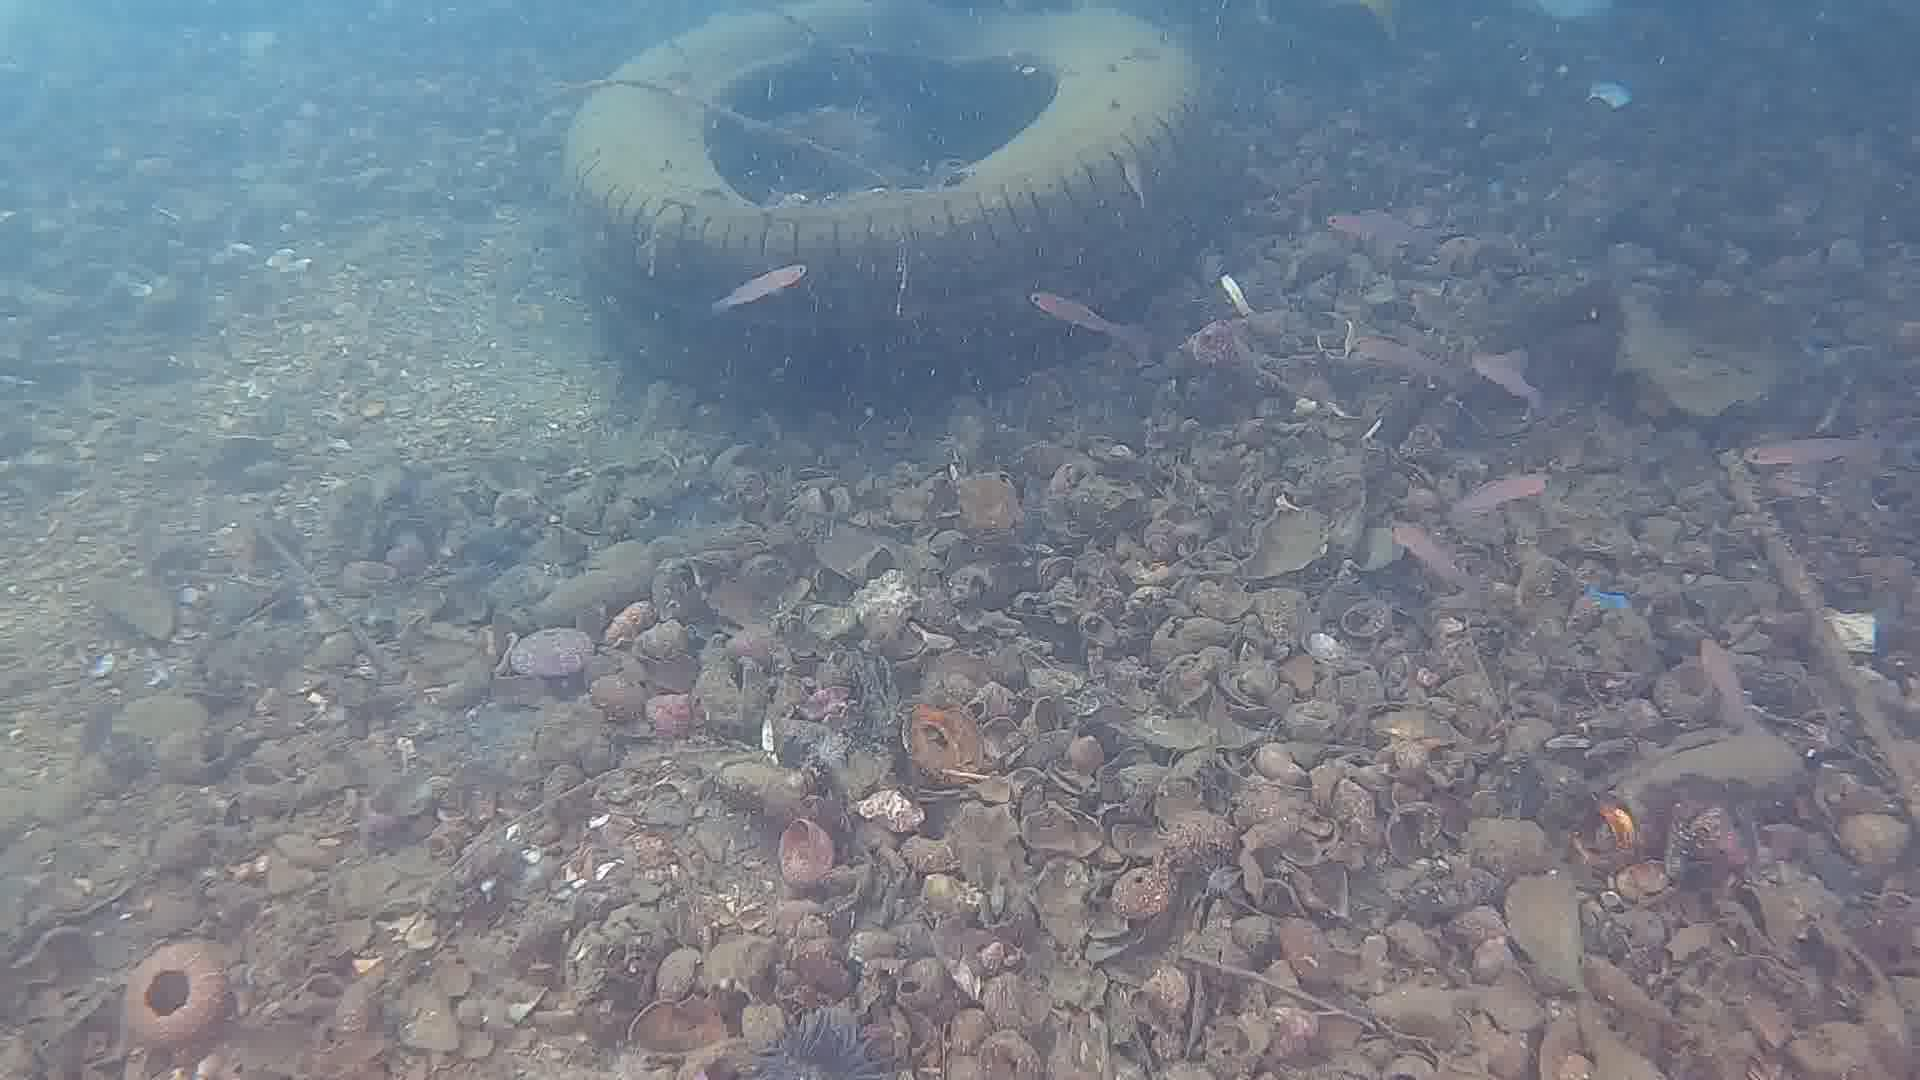tire: (554, 5, 1222, 405)
